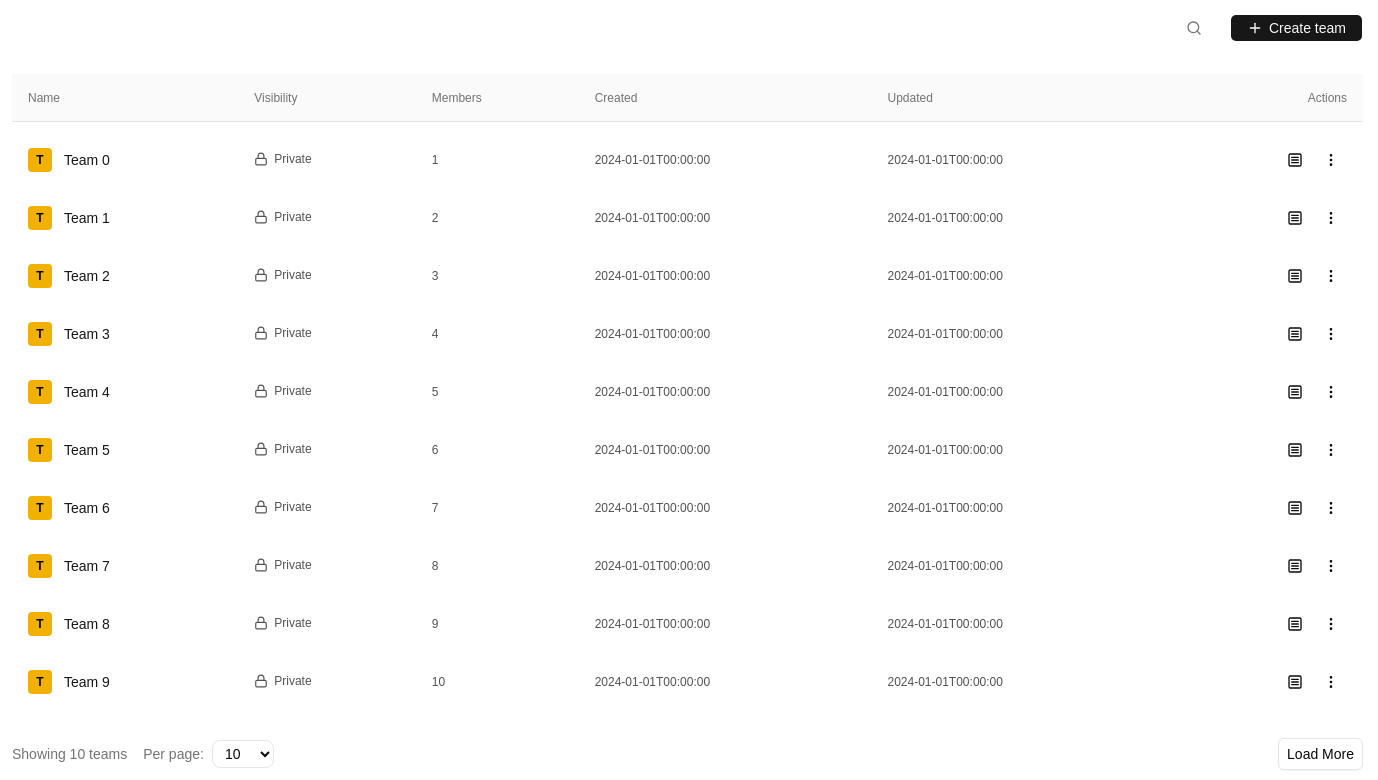
it: Teams › loads more teams when Load More button is clicked
Expected: the text "Team 0" is shown, left=64, top=150, right=110, bottom=170
Click the button with aria-label "load more teams" at (1321, 754), box left=1278, top=738, right=1363, bottom=770
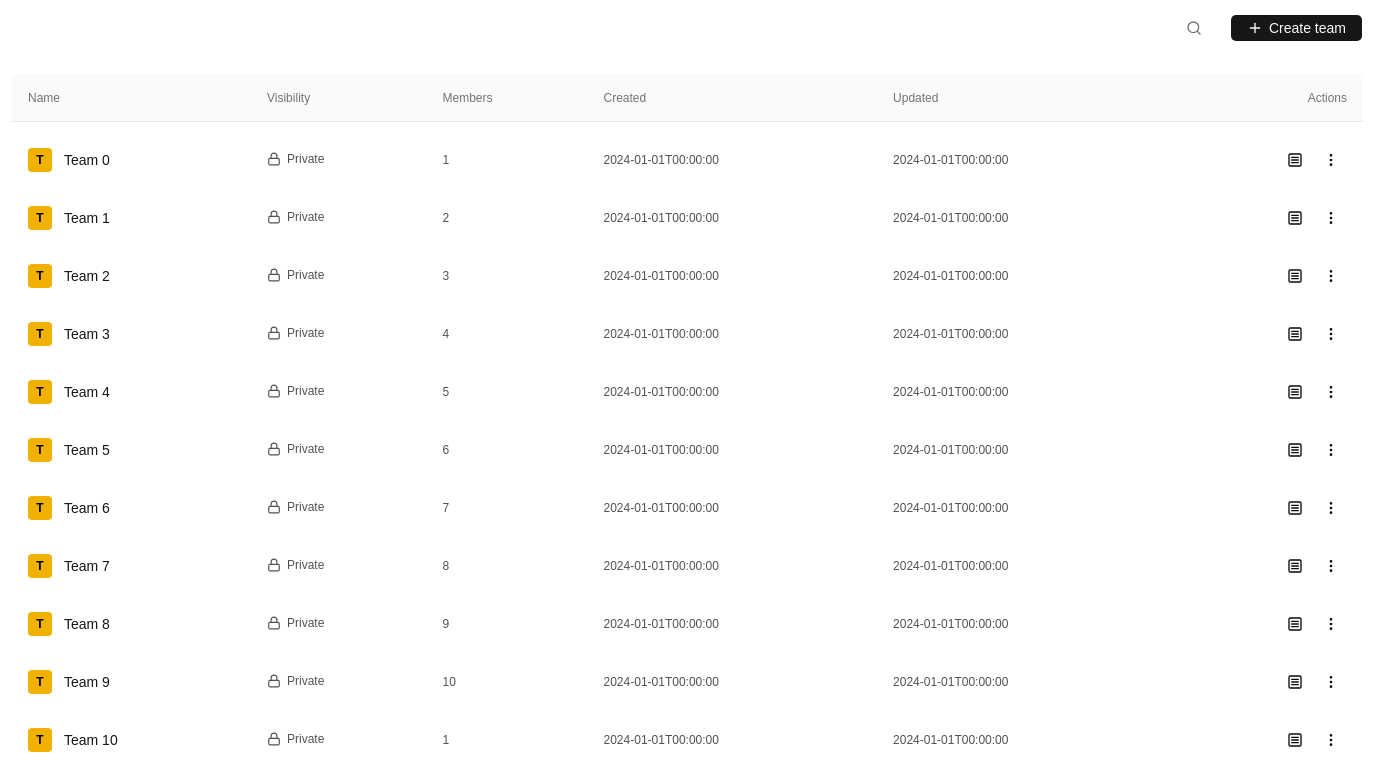
Now the text "Team 10" is shown, box left=64, top=730, right=118, bottom=750
